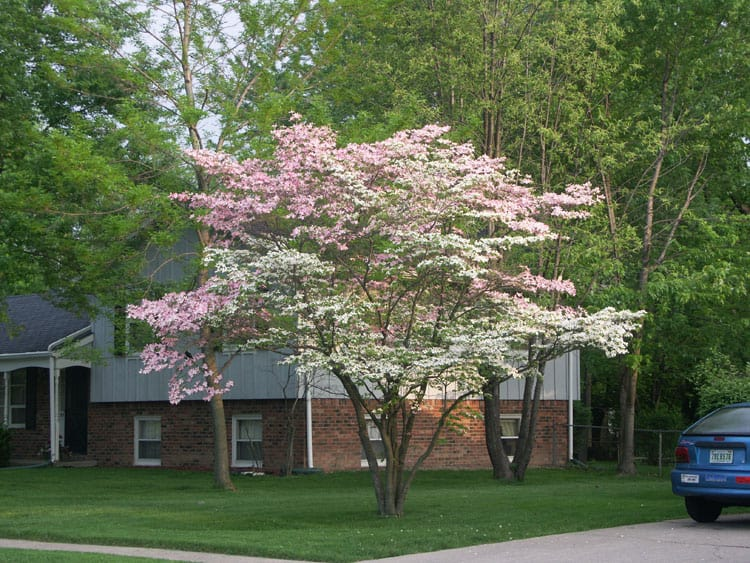tree: (132, 121, 637, 508)
